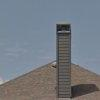Chimney: (47, 17, 80, 98)
